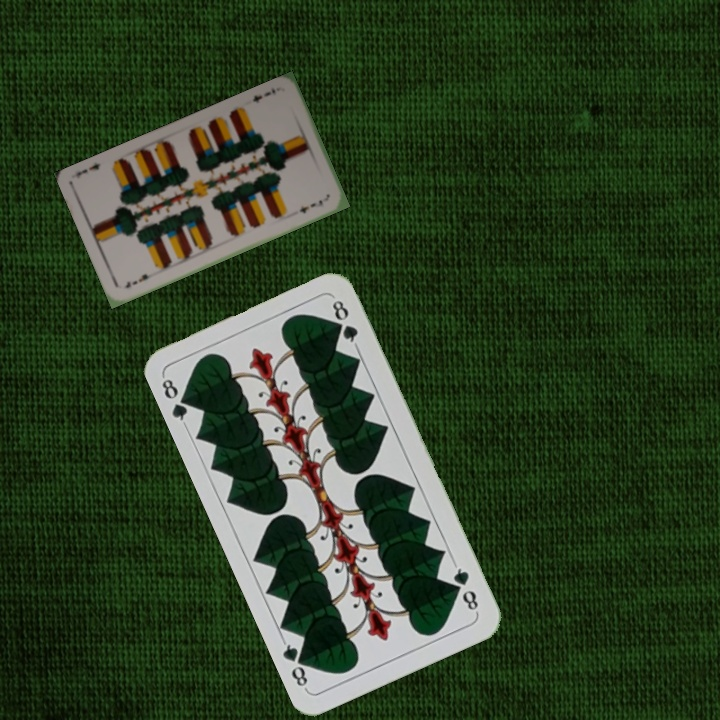E7: (121, 269, 157, 291), (249, 83, 278, 106)
G8: (157, 372, 196, 429), (449, 560, 481, 616)
